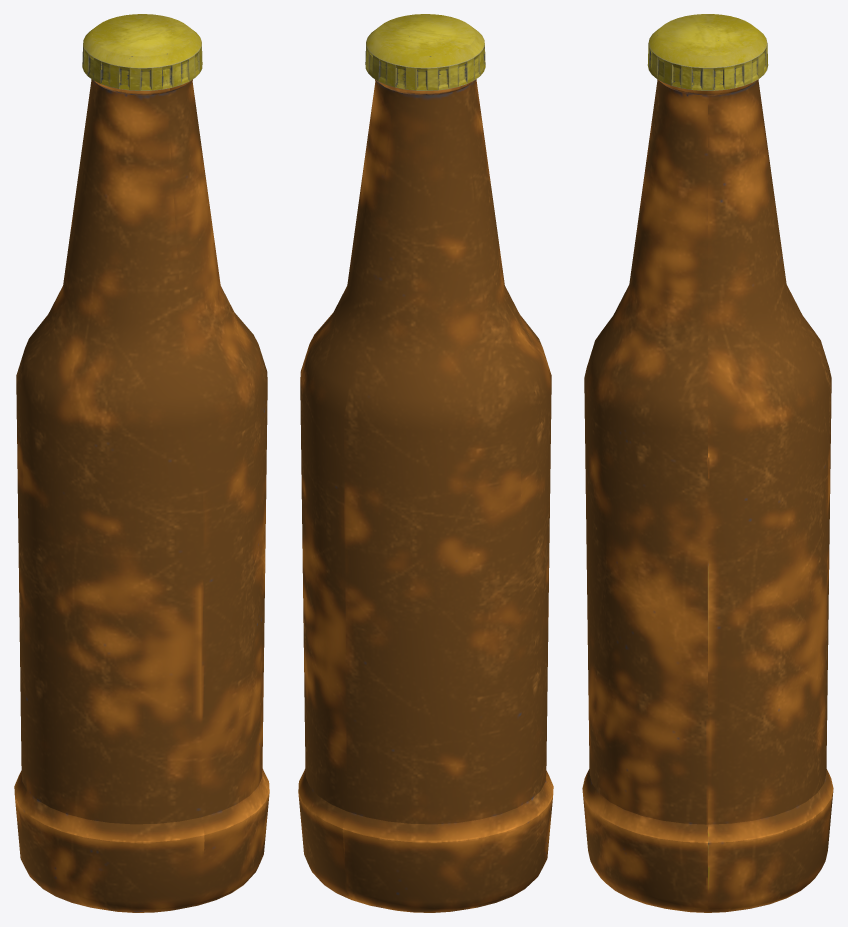
The model's file is Beer2.fbx.
3 views of the same model, side by side, from view 1: azimuth 30°, elevation 25°; view 2: azimuth 150°, elevation 25°; view 3: azimuth 270°, elevation 25° (orthographic).
Visible parts, largest first — view 1: Cylinder.001; view 2: Cylinder.001; view 3: Cylinder.001.
Part boxes in pixels (<box>): Cylinder.001: <box>14,14,269,912</box>; Cylinder.001: <box>298,14,553,912</box>; Cylinder.001: <box>582,14,833,912</box>.
Size of the model in its own units: 10.06 by 36.16 by 9.81.
